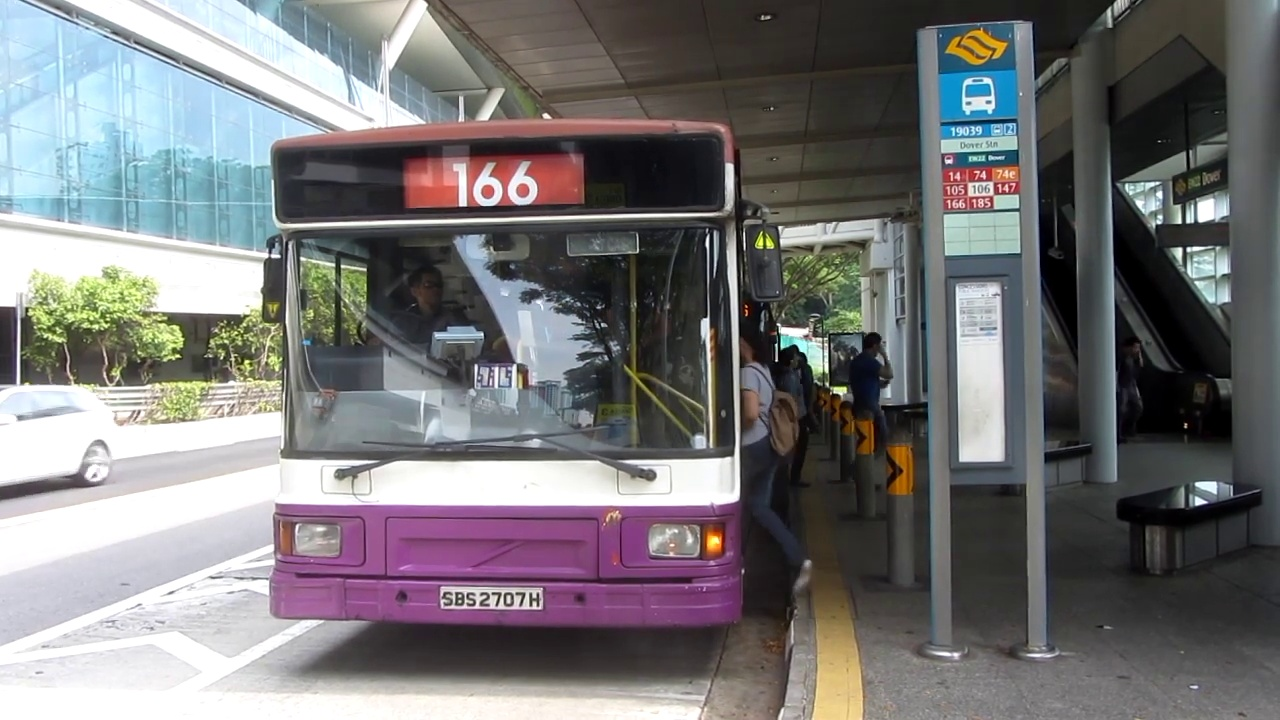bus panel: (400, 151, 588, 211)
